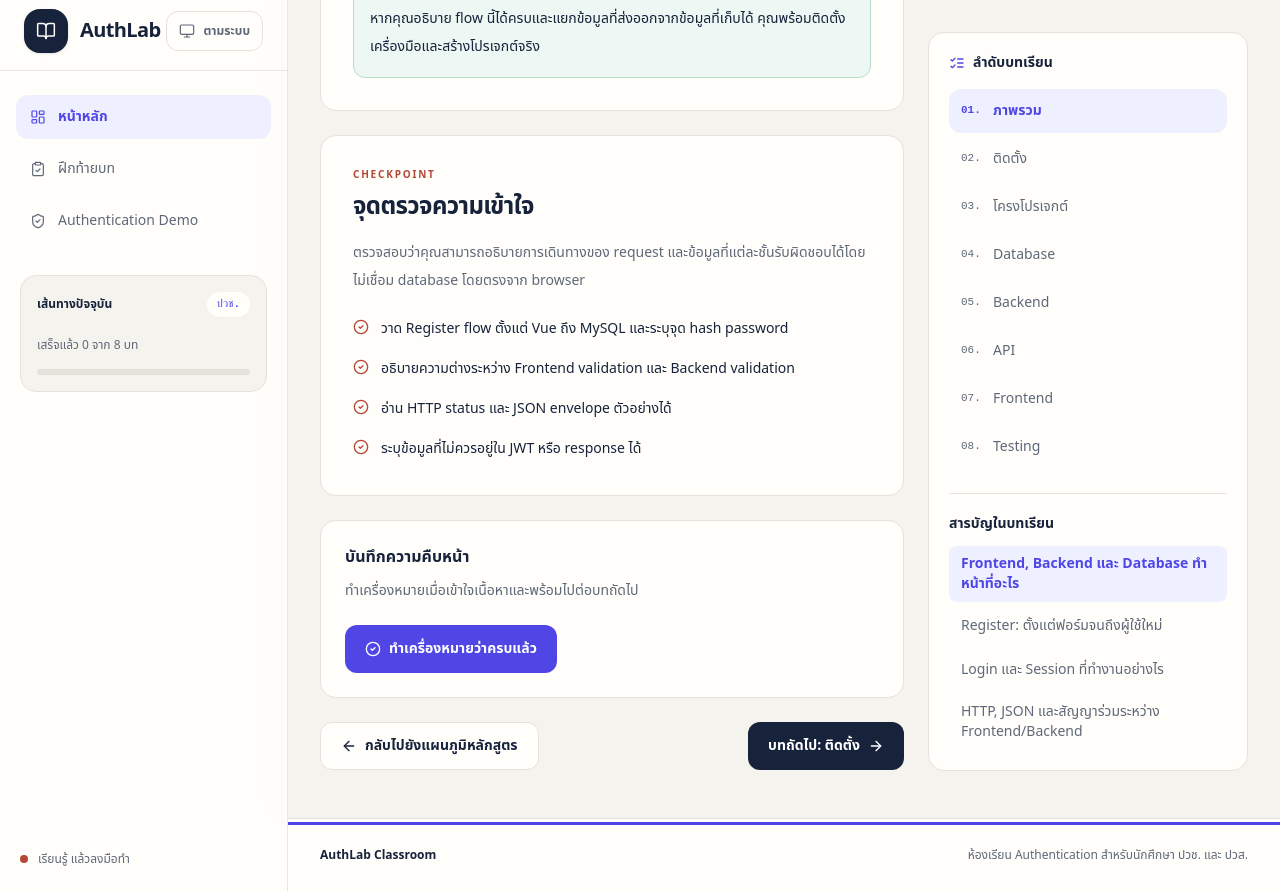
Scenario: LessonPage › toggles completion through shared progress and immediately updates the dashboard
(page scrolled)
Click the button "ทำเครื่องหมายว่าครบแล้ว" at (451, 649), box left=345, top=625, right=557, bottom=673
(page scrolled)
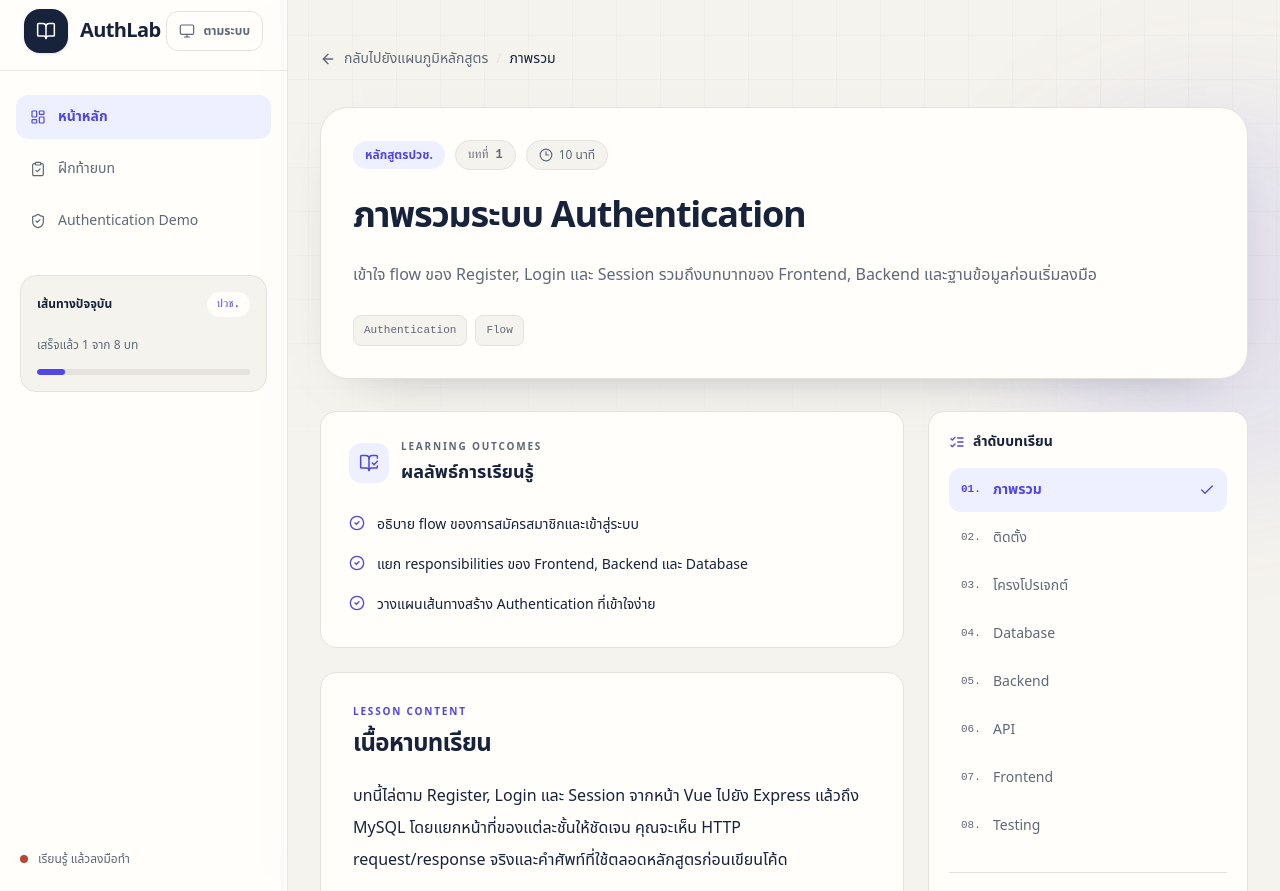
Click the link "กลับไปยังแผนภูมิหลักสูตร" at (404, 58), box left=320, top=48, right=488, bottom=69
(page scrolled)
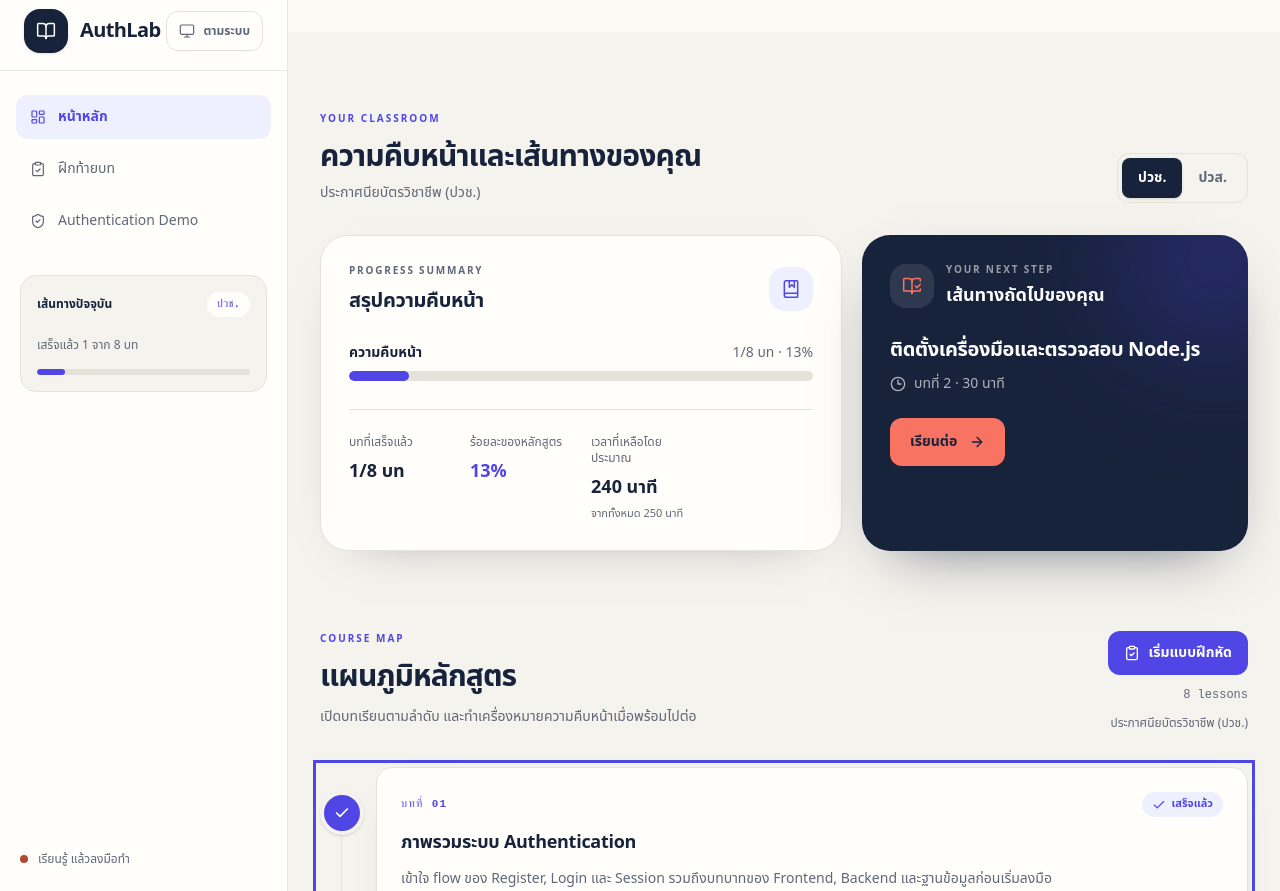
Click the link "เรียนต่อ" at (948, 442), box left=890, top=418, right=1005, bottom=466
(page scrolled)
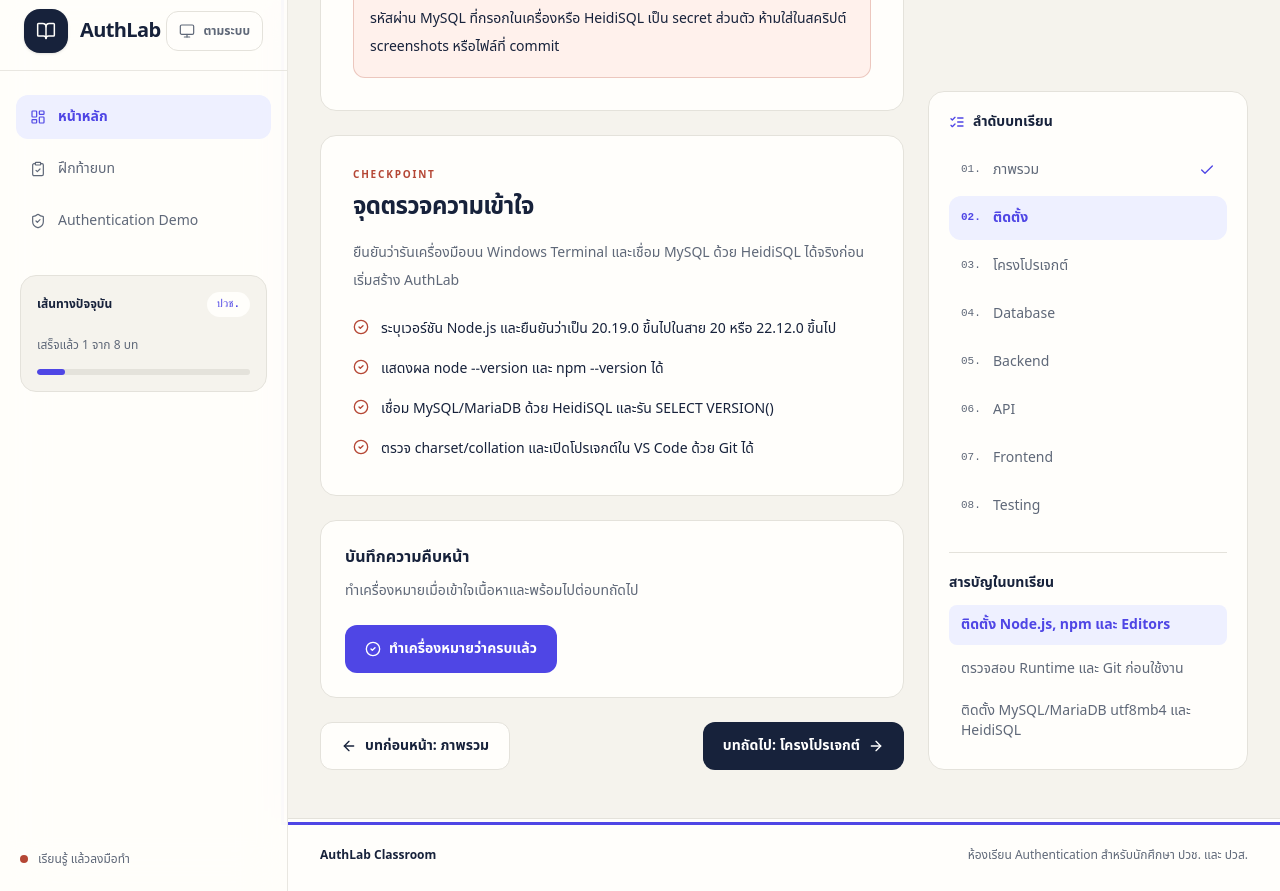
Click the button "ทำเครื่องหมายว่าครบแล้ว" at (451, 648), box left=345, top=624, right=557, bottom=672
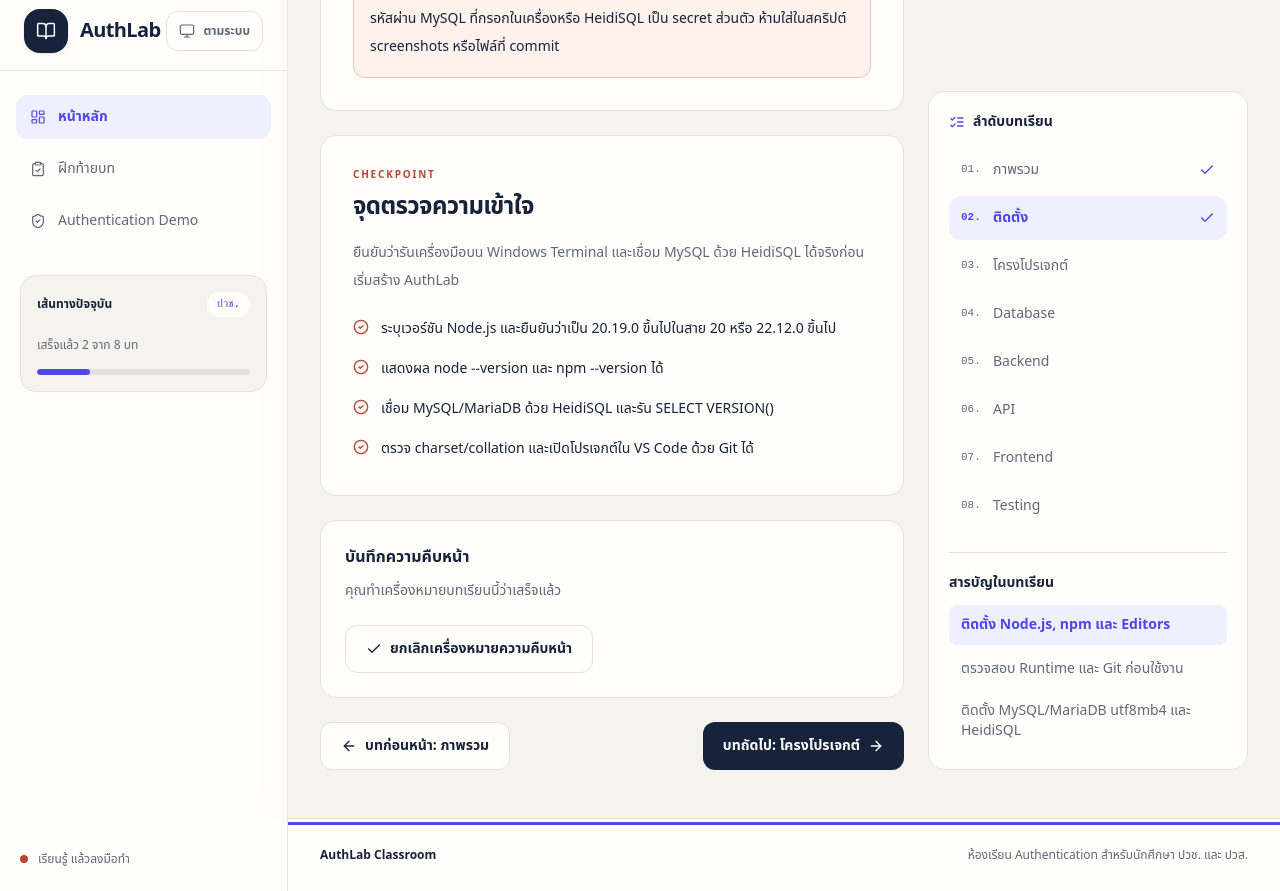
Click the button "ยกเลิกเครื่องหมายความคืบหน้า" at (469, 648), box left=345, top=624, right=593, bottom=672
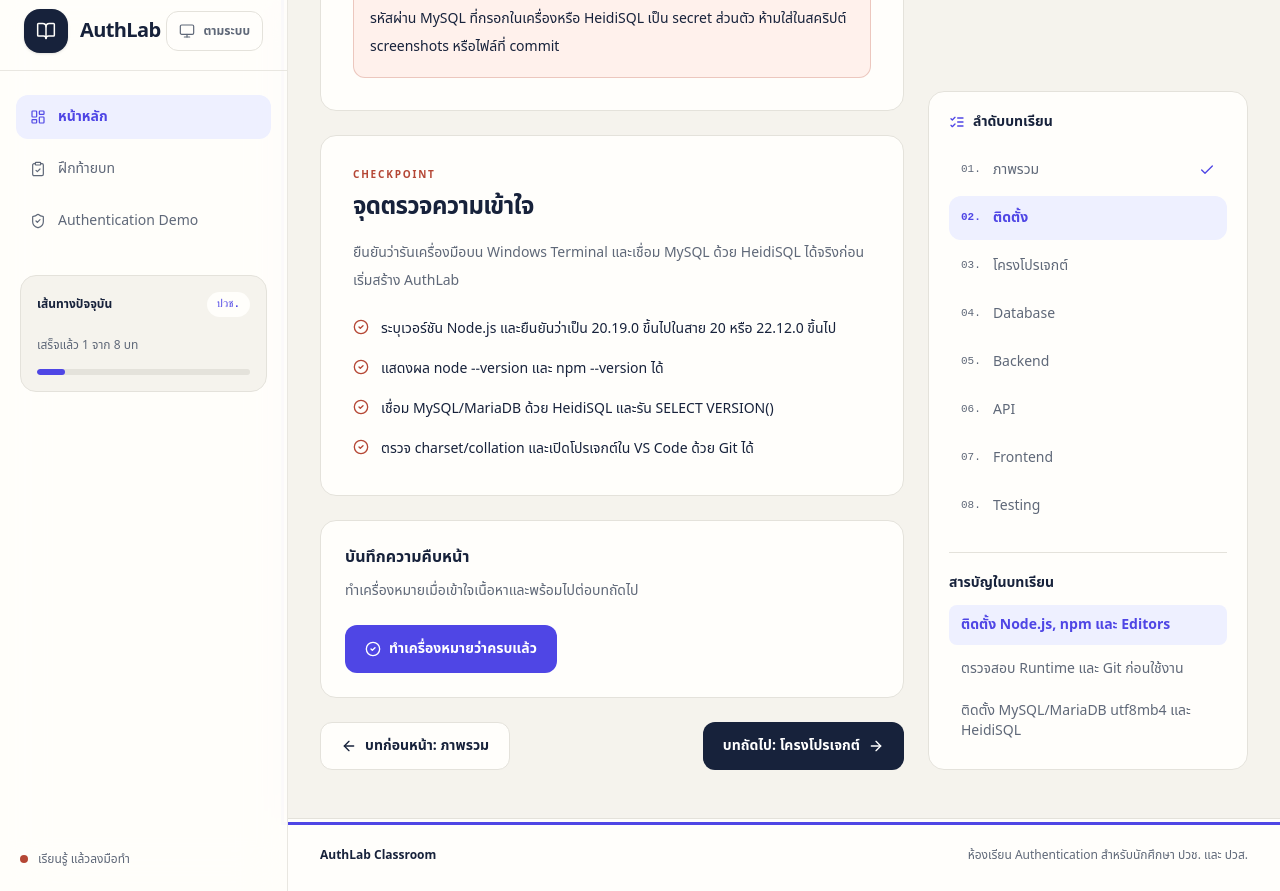
Result: the button "ทำเครื่องหมายว่าครบแล้ว" is shown at left=345, top=624, right=557, bottom=672
